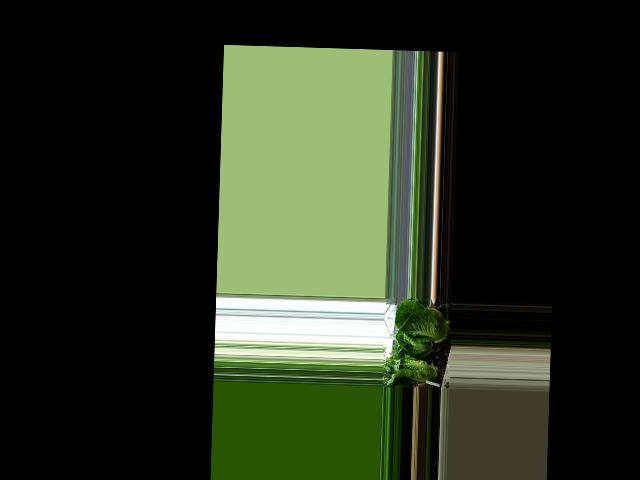lettuce: (388, 353, 445, 385)
